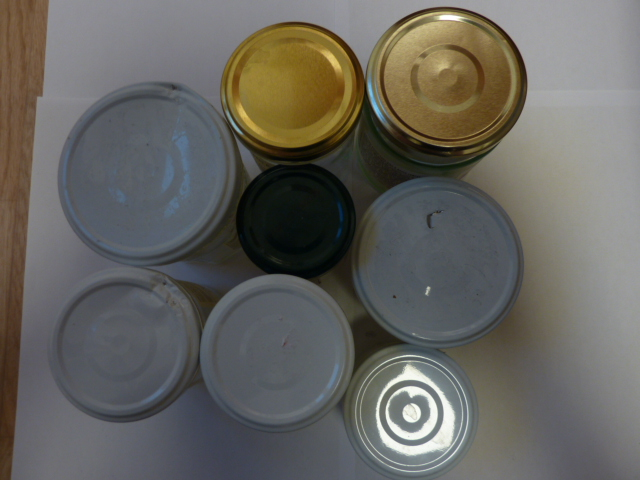damaged: (46, 268, 200, 422)
intact: (235, 164, 357, 279)
